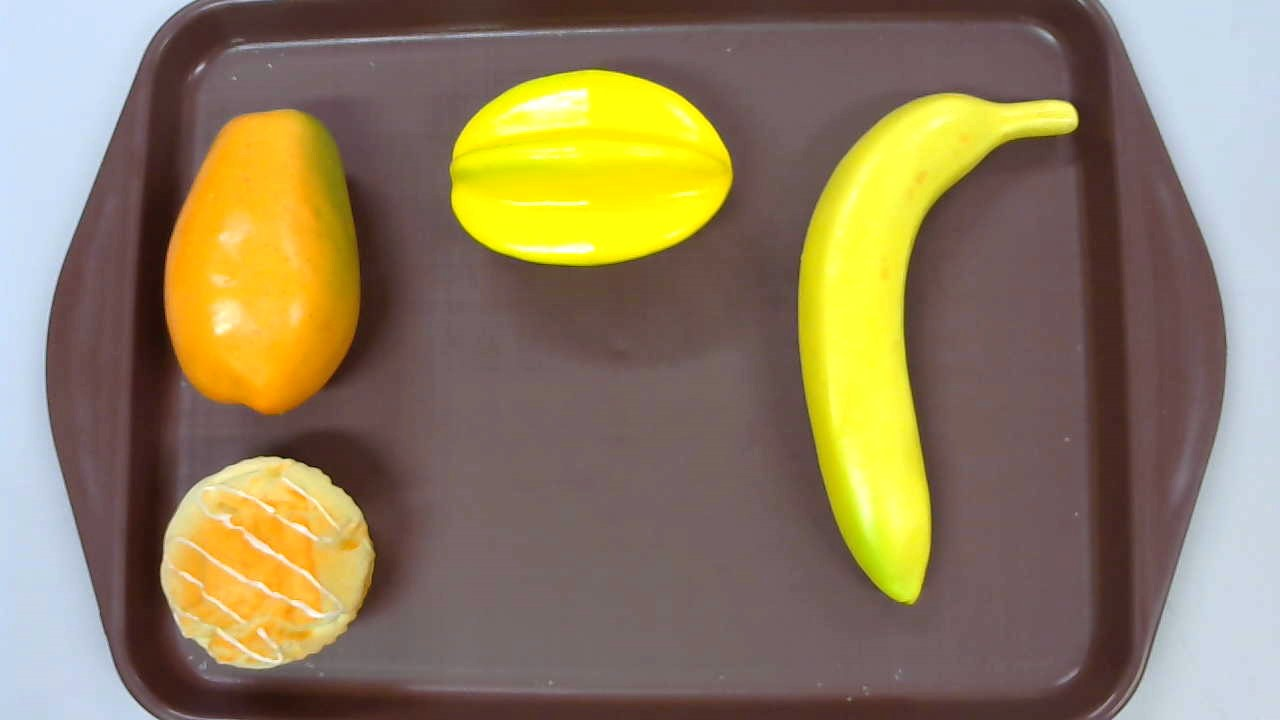banana: (796, 92, 1080, 604)
cupcake: (161, 453, 375, 670)
papya: (164, 108, 360, 416)
star fruit: (450, 69, 733, 266)
